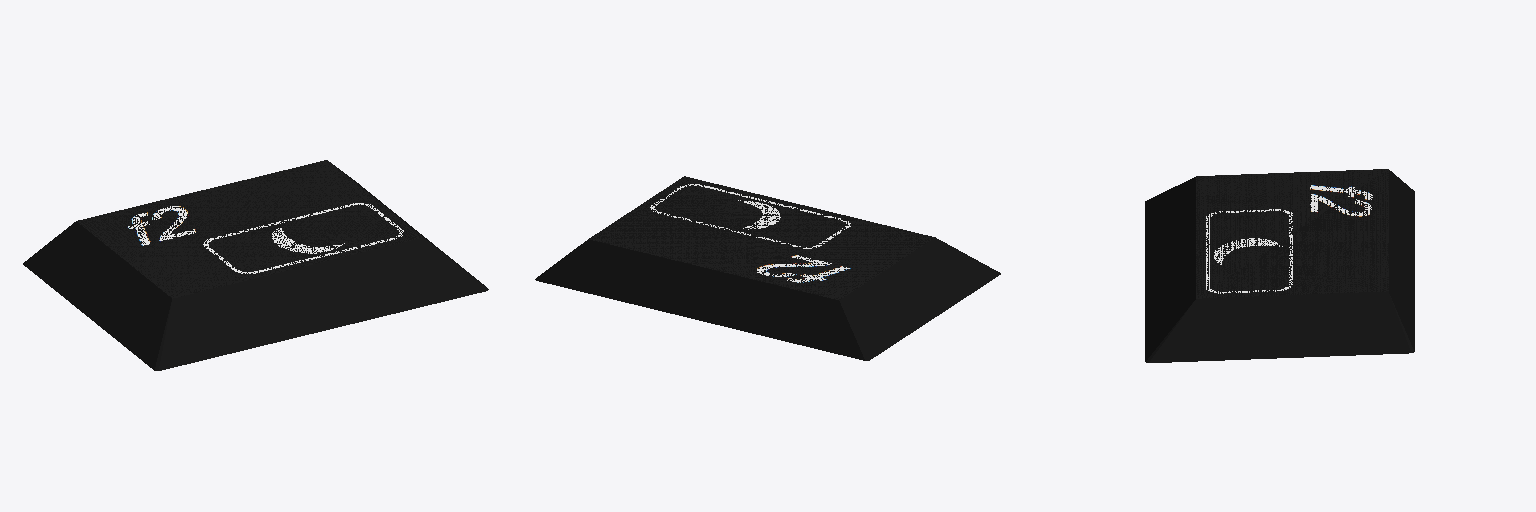
The picture shows the model from 3 angles: view 1: azimuth 30°, elevation 25°; view 2: azimuth 150°, elevation 25°; view 3: azimuth 270°, elevation 25°; orthographic projection.
Parts seen in each view (by area): view 1: Group80/mesh75/mesh75-geometry#mesh75-geometry; view 2: Group80/mesh75/mesh75-geometry#mesh75-geometry; view 3: Group80/mesh75/mesh75-geometry#mesh75-geometry.
Part boxes in pixels (left/top/right/bottom): Group80/mesh75/mesh75-geometry#mesh75-geometry: left=23, top=160, right=488, bottom=370; Group80/mesh75/mesh75-geometry#mesh75-geometry: left=535, top=176, right=1000, bottom=360; Group80/mesh75/mesh75-geometry#mesh75-geometry: left=1145, top=169, right=1414, bottom=362.
Size of the model in its own units: 0.0754 by 0.0111 by 0.0525.
Materials: 2 (1 with a texture image).